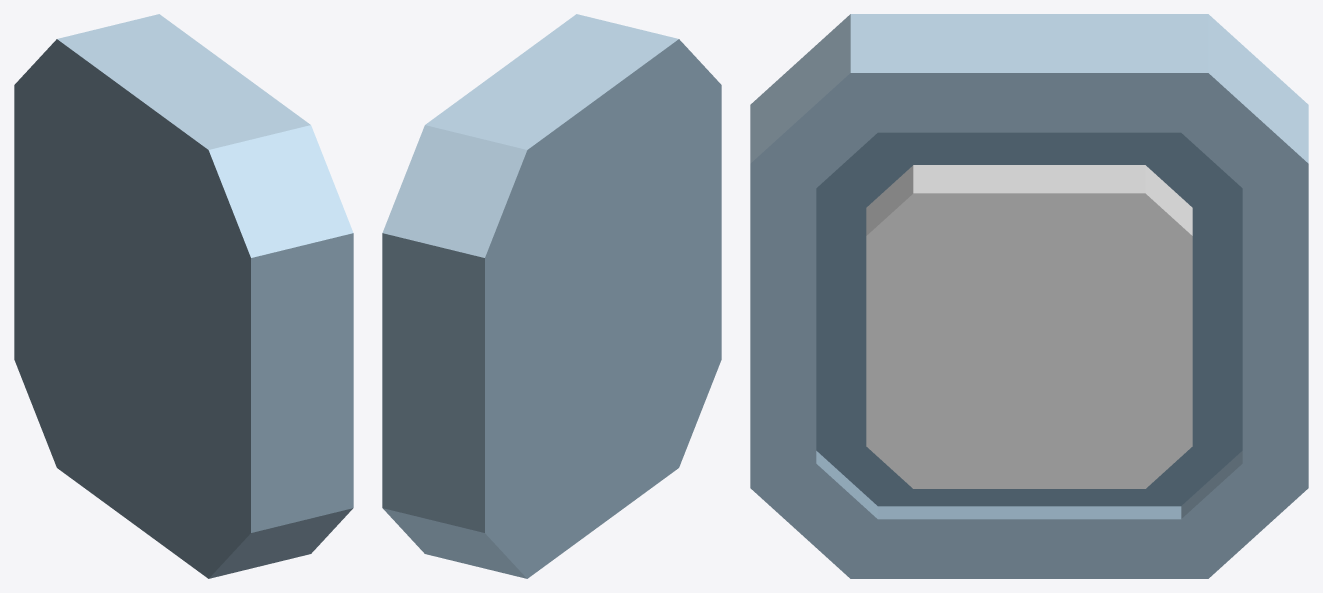
The model's file is BioScanner_Button.fbx.
3 views of the same model, side by side, from view 1: azimuth 30°, elevation 25°; view 2: azimuth 150°, elevation 25°; view 3: azimuth 270°, elevation 25° (orthographic). The views are drawn at different scales.
Parts seen in each view (by area): view 1: Plane; view 2: Plane; view 3: Plane, Plane.001.
Part boxes in pixels (x1,y1,x2,y2): Plane: (14, 14, 353, 578); Plane: (382, 14, 721, 578); Plane: (750, 14, 1308, 578); Plane.001: (866, 165, 1192, 488).
Bounding box in the file's own units: 31.48 × 100 × 100.
